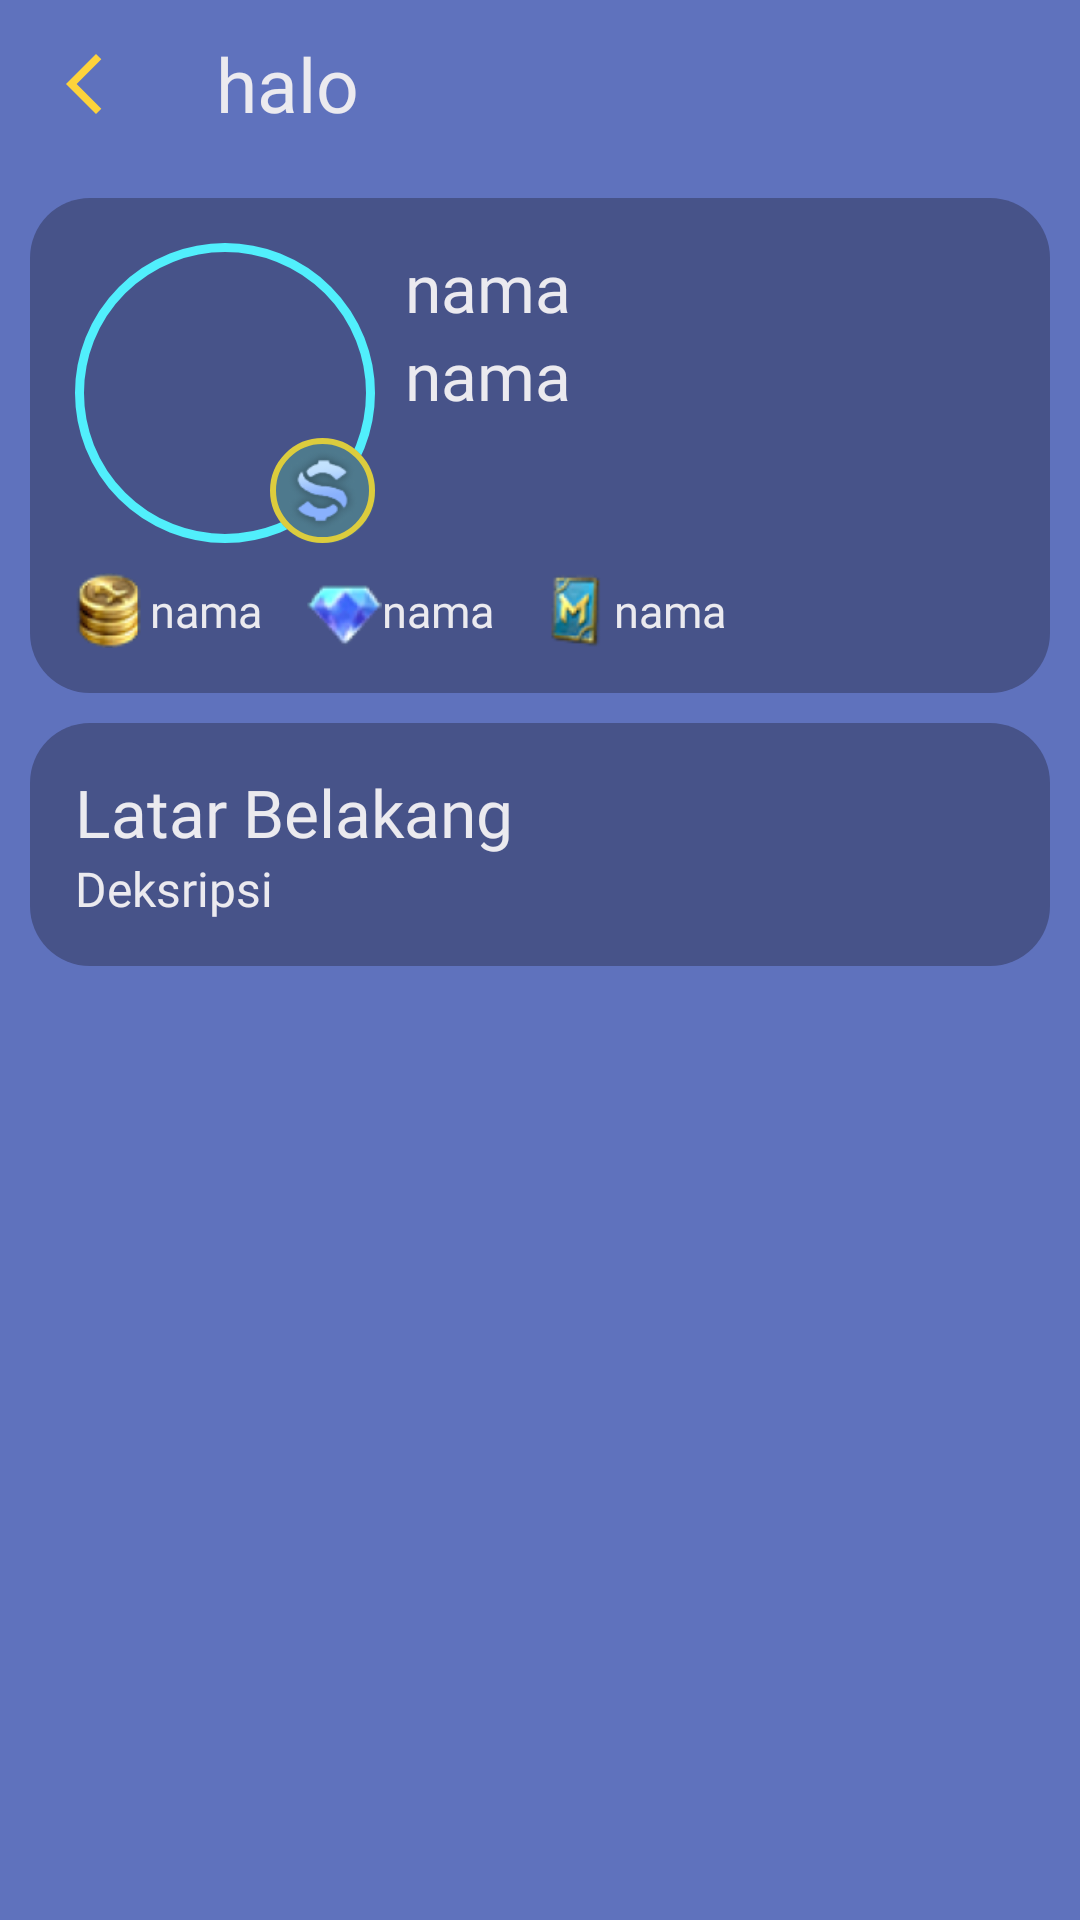

Screen size 1080x1920. Icon name, then its center in pixels as (x,y):
tikett: (575,611)
